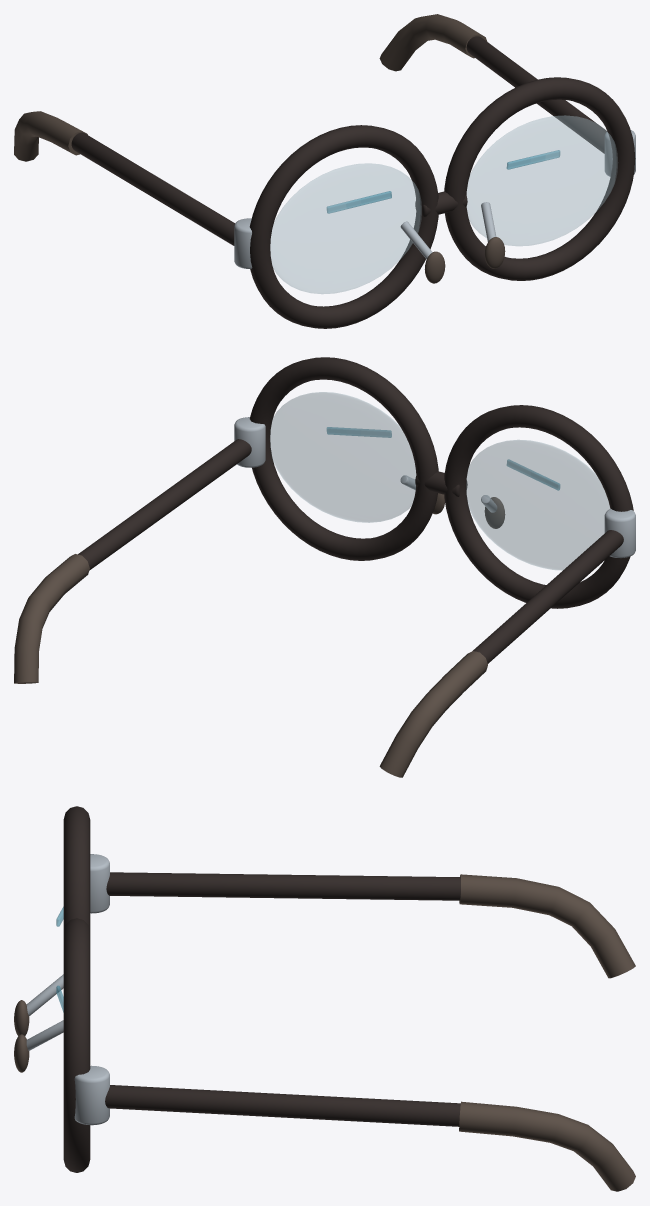
The model's file is everyday_glasses.glb.
The picture shows the model from 3 angles, top to bottom: view 1: azimuth 30°, elevation 25°; view 2: azimuth 150°, elevation 25°; view 3: azimuth 270°, elevation 25°; orthographic projection. The views are drawn at different scales.
Parts seen in each view (by area): view 1: Glasses_LeftLens, Glasses_RightLens, Glasses_LeftRim, Glasses_RightRim, Glasses_LeftTempleArm, Glasses_RightTempleArm, Glasses_RightTempleGrip, Glasses_LeftTempleGrip, Glasses_LeftHinge, Glasses_LeftLensHighlight, Glasses_LeftNosePad, Glasses_RightNosePad (+1 smaller); view 2: Glasses_RightLens, Glasses_LeftLens, Glasses_RightRim, Glasses_LeftRim, Glasses_RightTempleArm, Glasses_LeftTempleGrip, Glasses_LeftTempleArm, Glasses_RightTempleGrip, Glasses_RightHinge, Glasses_LeftHinge; view 3: Glasses_RightTempleArm, Glasses_LeftTempleArm, Glasses_RightRim, Glasses_LeftTempleGrip, Glasses_RightTempleGrip, Glasses_LeftRim, Glasses_RightHinge, Glasses_LeftHinge, Glasses_LeftNosePadArm.
Boxes of the visible parts, x1,y1,x2,y2 form: Glasses_LeftLens: (270, 163, 421, 293); Glasses_RightLens: (467, 115, 617, 245); Glasses_LeftRim: (249, 125, 438, 328); Glasses_RightRim: (444, 77, 635, 280); Glasses_LeftTempleArm: (71, 132, 235, 245); Glasses_RightTempleArm: (466, 36, 606, 153); Glasses_RightTempleGrip: (379, 14, 487, 71); Glasses_LeftTempleGrip: (14, 111, 87, 161); Glasses_LeftHinge: (234, 218, 252, 268); Glasses_LeftLensHighlight: (326, 191, 391, 213); Glasses_LeftNosePad: (424, 251, 445, 283); Glasses_RightNosePad: (484, 237, 505, 268); Glasses_RightLens: (270, 392, 415, 522); Glasses_LeftLens: (466, 440, 610, 570); Glasses_RightRim: (249, 357, 438, 560); Glasses_LeftRim: (444, 405, 633, 608); Glasses_RightTempleArm: (78, 439, 251, 570); Glasses_LeftTempleGrip: (379, 651, 487, 777); Glasses_LeftTempleArm: (473, 530, 623, 663); Glasses_RightTempleGrip: (14, 554, 89, 683); Glasses_RightHinge: (234, 417, 265, 467); Glasses_LeftHinge: (604, 509, 635, 557); Glasses_RightTempleArm: (105, 1085, 460, 1126); Glasses_LeftTempleArm: (106, 872, 460, 900); Glasses_RightRim: (63, 918, 90, 1172); Glasses_LeftTempleGrip: (459, 874, 635, 978); Glasses_RightTempleGrip: (459, 1101, 635, 1191); Glasses_LeftRim: (63, 806, 90, 930); Glasses_RightHinge: (74, 1065, 109, 1125); Glasses_LeftHinge: (90, 854, 109, 913); Glasses_LeftNosePadArm: (26, 974, 63, 1015).
Bounding box in the file's own units: 0.155 × 0.0692 × 0.1688.
